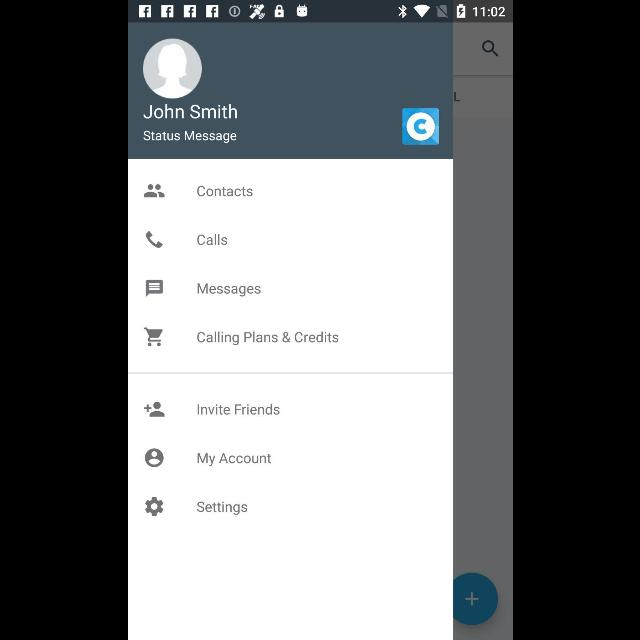icon: (142, 39, 202, 100), (144, 448, 164, 468), (144, 328, 162, 347), (145, 498, 163, 516), (144, 401, 164, 417), (146, 280, 162, 298), (144, 185, 164, 198), (482, 41, 498, 57)
image: (402, 108, 438, 146), (146, 232, 162, 248)
panel: (128, 24, 452, 640)
text: (196, 331, 338, 345), (142, 104, 236, 120), (142, 130, 236, 144), (197, 452, 271, 466), (197, 404, 279, 416), (197, 283, 260, 297), (196, 501, 247, 515), (196, 186, 252, 197), (196, 234, 227, 246)
uppertaskbar: (128, 1, 512, 23)
